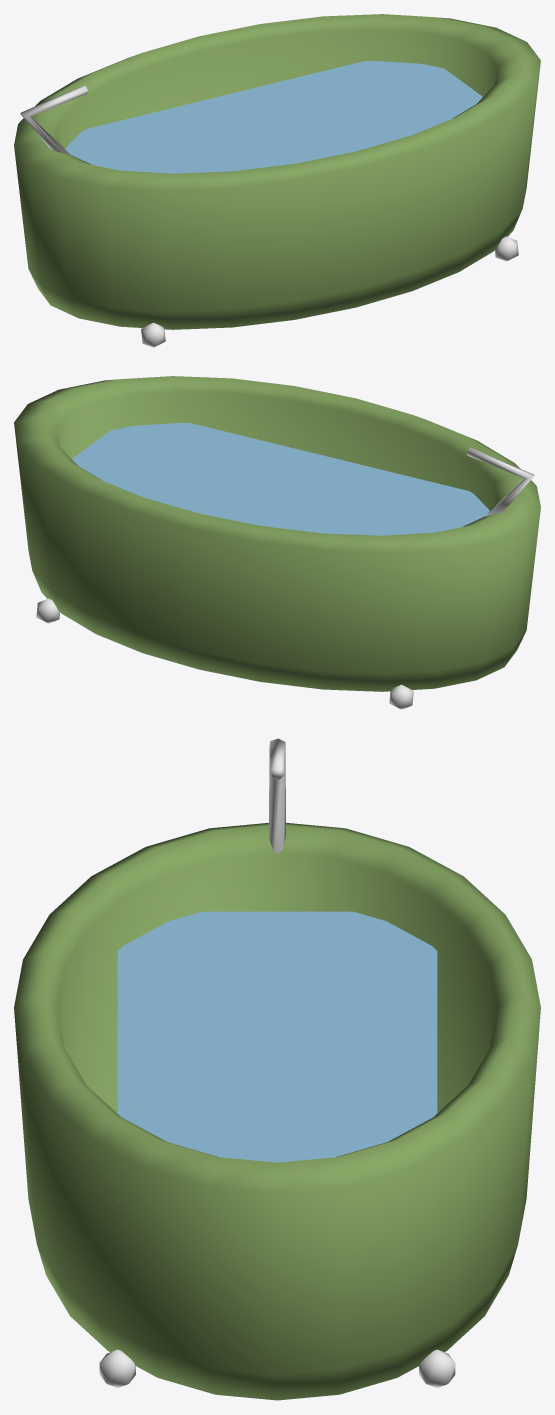
The model's file is cactus_bathtub_v0.glb.
The picture shows the model from 3 angles, top to bottom: view 1: azimuth 30°, elevation 25°; view 2: azimuth 150°, elevation 25°; view 3: azimuth 270°, elevation 25°; orthographic projection. The views are drawn at different scales.
Parts seen in each view (by area): view 1: cactus_bathtub_v0; view 2: cactus_bathtub_v0; view 3: cactus_bathtub_v0.
Boxes of the visible parts, <box> form: cactus_bathtub_v0: <box>14,14,540,347</box>; cactus_bathtub_v0: <box>14,376,540,709</box>; cactus_bathtub_v0: <box>14,738,540,1400</box>.
Size of the model in its own units: 2.51 by 1.08 by 1.49.
